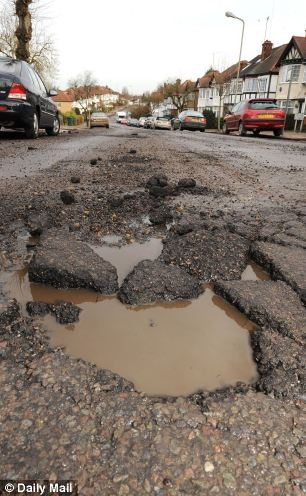pothole: (0, 260, 286, 406), (31, 186, 204, 284), (212, 208, 281, 291)
